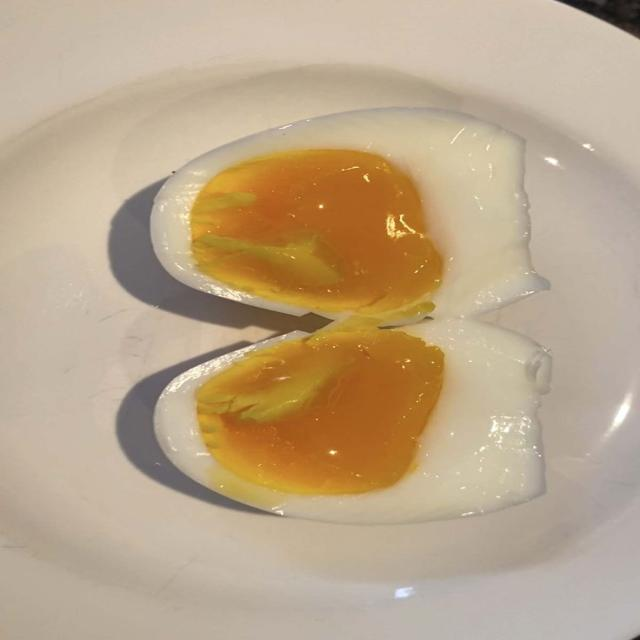eggs: (70, 91, 612, 560)
